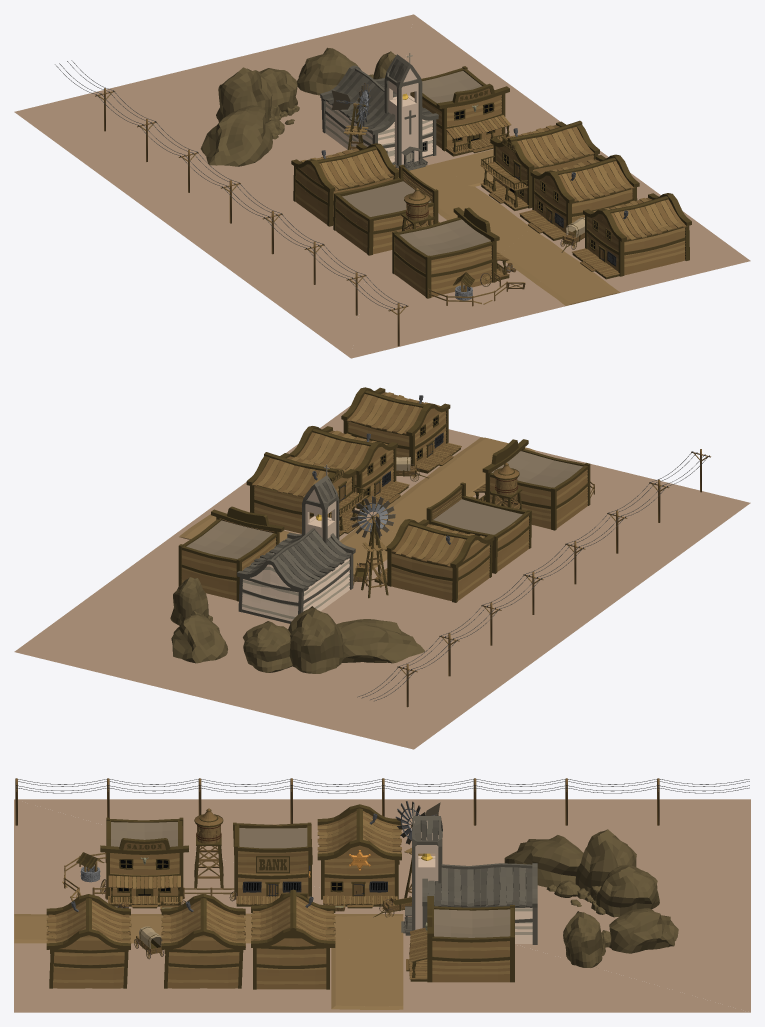
The model's file is western-town.glb.
The picture shows the model from 3 angles, top to bottom: view 1: azimuth 30°, elevation 25°; view 2: azimuth 150°, elevation 25°; view 3: azimuth 270°, elevation 25°; orthographic projection. The views are drawn at different scales.
Visible parts, largest first — view 1: floor -1 -2, floor 0 1, rest 0 -1, rest 1 3, rest 1 1, rest 1 2, rest 1 -1, rest -1 2, rest -1 -3, ceiling -1 2, rest -1 0, rest 0 -3 (+24 smaller); view 2: floor -1 -2, floor 0 1, rest -1 -3, rest 0 -2, rest 1 2, rest 0 -1, rest -1 -1, rest 1 1, rest 1 0, rest 1 -2, rest -2 0, rest 0 -3 (+24 smaller); view 3: floor -1 -2, floor 0 1, rest -1 0, rest 0 -1, rest -1 1, rest 2 1, rest -1 2, floor 1 0, rest 1 -3, rest 2 2, rest 0 -2, rest 1 -1 (+35 smaller).
Boxes of the visible parts, x1=… form: floor -1 -2: x1=14, y1=14, x2=413, y2=358; floor 0 1: x1=351, y1=14, x2=750, y2=358; rest 0 -1: x1=348, y1=53, x2=438, y2=177; rest 1 3: x1=593, y1=195, x2=691, y2=279; rest 1 1: x1=504, y1=131, x2=624, y2=229; rest 1 2: x1=548, y1=163, x2=667, y2=262; rest 1 -1: x1=422, y1=79, x2=510, y2=156; rest -1 2: x1=398, y1=208, x2=509, y2=298; rest -1 -3: x1=216, y1=67, x2=294, y2=124; ceiling -1 2: x1=397, y1=207, x2=507, y2=274; rest -1 0: x1=318, y1=144, x2=415, y2=224; rest 0 -3: x1=263, y1=48, x2=352, y2=120; floor -1 -2: x1=15, y1=503, x2=750, y2=749; floor 0 1: x1=14, y1=406, x2=750, y2=651; rest -1 -3: x1=254, y1=606, x2=372, y2=673; rest 0 -2: x1=237, y1=543, x2=330, y2=623; rest 1 2: x1=318, y1=390, x2=438, y2=490; rest 0 -1: x1=266, y1=465, x2=381, y2=607; rest -1 -1: x1=360, y1=496, x2=457, y2=600; rest 1 1: x1=285, y1=427, x2=393, y2=522; rest 1 0: x1=252, y1=452, x2=349, y2=533; rest 1 -2: x1=178, y1=538, x2=258, y2=620; rest -2 0: x1=459, y1=529, x2=576, y2=597; rest 0 -3: x1=173, y1=614, x2=275, y2=667; floor -1 -2: x1=18, y1=799, x2=750, y2=1012; floor 0 1: x1=14, y1=799, x2=749, y2=1012; rest -1 0: x1=280, y1=811, x2=394, y2=903; rest 0 -1: x1=378, y1=804, x2=484, y2=935; rest -1 1: x1=187, y1=809, x2=301, y2=903; rest 2 1: x1=182, y1=930, x2=290, y2=989; rest -1 2: x1=90, y1=826, x2=188, y2=903; floor 1 0: x1=331, y1=939, x2=380, y2=1008; rest 1 -3: x1=571, y1=911, x2=673, y2=967; rest 2 2: x1=88, y1=931, x2=192, y2=988; rest 0 -2: x1=470, y1=864, x2=537, y2=944; rest 1 -1: x1=406, y1=908, x2=484, y2=982.
Size of the model in its own units: 55.08 by 19.55 by 80.39.
